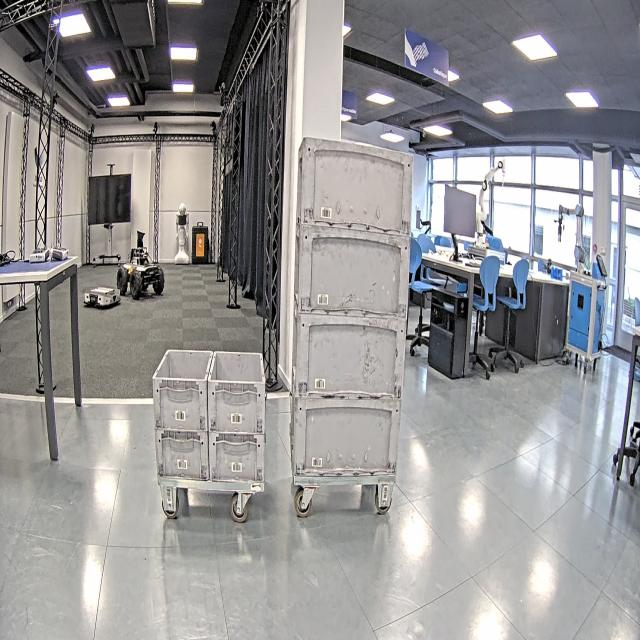Box4G: (296, 136, 411, 236), (294, 225, 408, 317), (292, 311, 403, 400), (289, 399, 402, 476)
Box8G: (152, 351, 212, 429), (208, 353, 266, 432), (209, 433, 265, 483), (155, 432, 208, 479)
